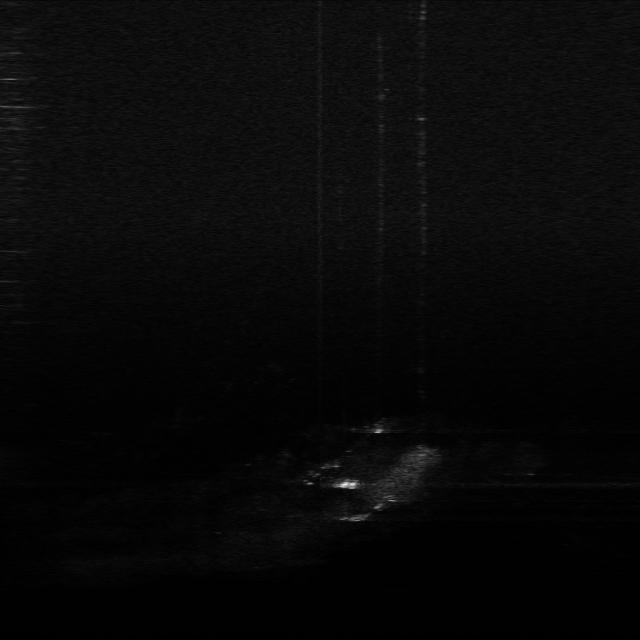rov: (333, 477, 362, 493)
